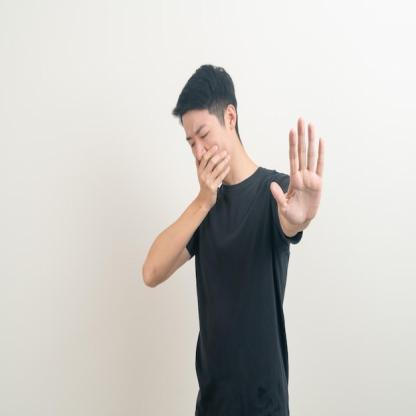ok: (268, 113, 326, 235)
